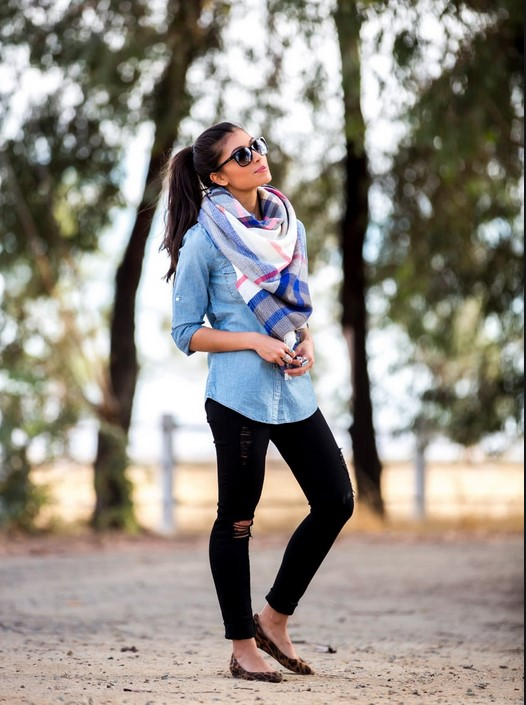face_no_mask: (199, 122, 276, 194)
